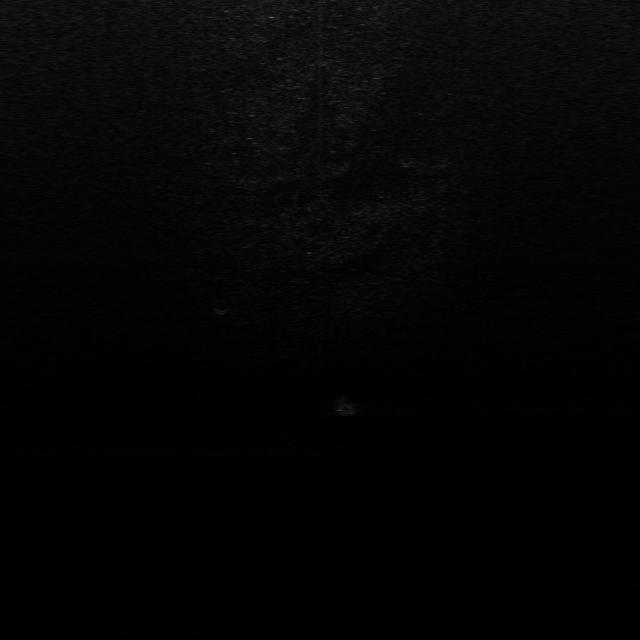ball: (334, 396, 360, 417)
circle cage: (208, 298, 234, 317)
